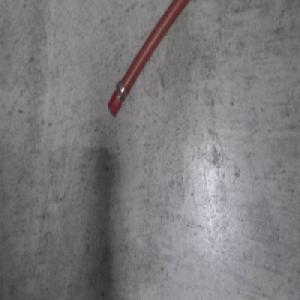Hose: (106, 0, 197, 120)
